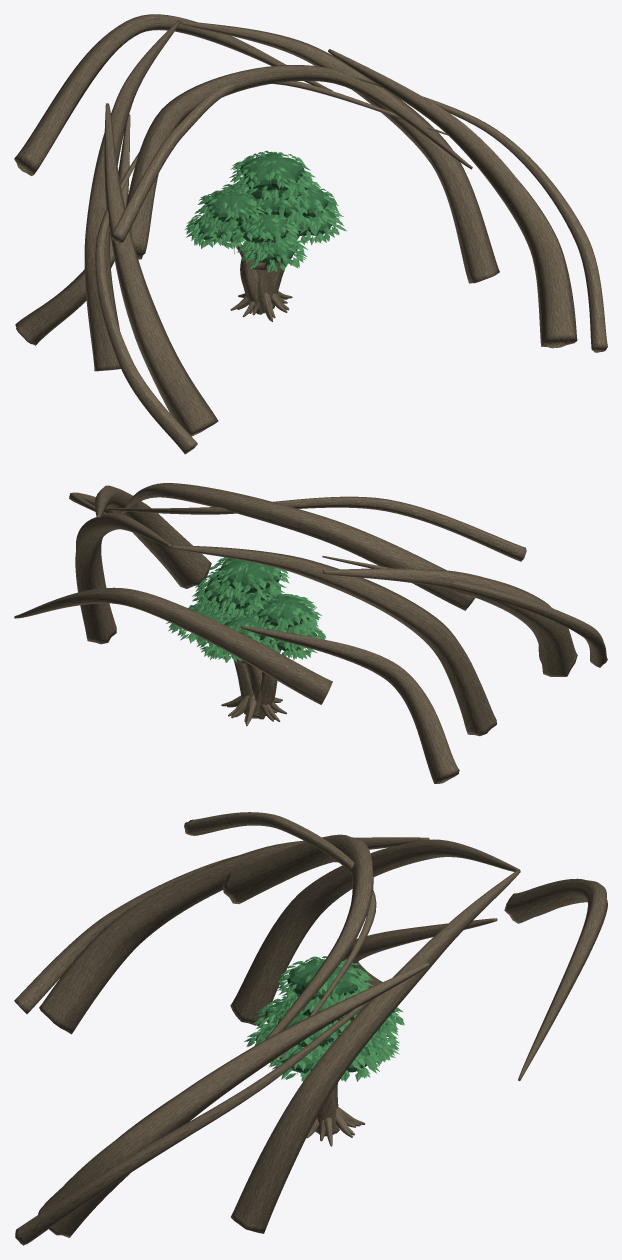
Rendered from world02-mangrove-trees-v1.glb.
The picture shows the model from 3 angles, top to bottom: view 1: azimuth 30°, elevation 25°; view 2: azimuth 150°, elevation 25°; view 3: azimuth 270°, elevation 25°; orthographic projection. The views are drawn at different scales.
Visible parts, largest first — view 1: Twelve tapered root vaults, mangrove-tree-tall - Mangrove painted foliage, mangrove-tree-arch - Mangrove painted foliage, mangrove-tree-lean - Mangrove painted foliage, mangrove-tree-arch - Mangrove sculpted bark, mangrove-tree-lean - Mangrove sculpted bark, mangrove-tree-tall - Mangrove sculpted bark; view 2: Twelve tapered root vaults, mangrove-tree-tall - Mangrove painted foliage, mangrove-tree-lean - Mangrove painted foliage, mangrove-tree-arch - Mangrove painted foliage, mangrove-tree-tall - Mangrove sculpted bark, mangrove-tree-lean - Mangrove sculpted bark, mangrove-tree-arch - Mangrove sculpted bark; view 3: Twelve tapered root vaults, mangrove-tree-tall - Mangrove painted foliage, mangrove-tree-lean - Mangrove painted foliage, mangrove-tree-arch - Mangrove painted foliage, mangrove-tree-lean - Mangrove sculpted bark.
Part boxes in pixels (box(x1,y1,x2,y2)): Twelve tapered root vaults: box(14, 14, 607, 454); mangrove-tree-tall - Mangrove painted foliage: box(195, 150, 338, 230); mangrove-tree-arch - Mangrove painted foliage: box(184, 187, 346, 272); mangrove-tree-lean - Mangrove painted foliage: box(230, 171, 328, 251); mangrove-tree-arch - Mangrove sculpted bark: box(231, 236, 299, 318); mangrove-tree-lean - Mangrove sculpted bark: box(242, 234, 290, 321); mangrove-tree-tall - Mangrove sculpted bark: box(230, 262, 292, 320); Twelve tapered root vaults: box(14, 483, 607, 783); mangrove-tree-tall - Mangrove painted foliage: box(192, 557, 322, 646); mangrove-tree-lean - Mangrove painted foliage: box(166, 569, 317, 662); mangrove-tree-arch - Mangrove painted foliage: box(193, 586, 325, 660); mangrove-tree-tall - Mangrove sculpted bark: box(221, 662, 280, 726); mangrove-tree-lean - Mangrove sculpted bark: box(233, 658, 286, 723); mangrove-tree-arch - Mangrove sculpted bark: box(227, 649, 281, 721); Twelve tapered root vaults: box(14, 812, 607, 1245); mangrove-tree-tall - Mangrove painted foliage: box(264, 956, 404, 1056); mangrove-tree-lean - Mangrove painted foliage: box(253, 984, 399, 1081); mangrove-tree-arch - Mangrove painted foliage: box(244, 1001, 351, 1081); mangrove-tree-lean - Mangrove sculpted bark: box(315, 1089, 360, 1141).
Size of the model in its own units: 55.31 by 25.72 by 52.46.
Materials: 3 (1 with a texture image).
